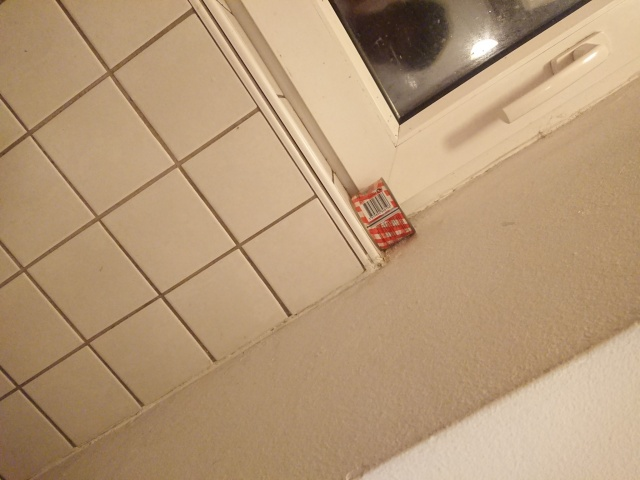Podravka Luncheon Meat 150g: (348, 174, 419, 253)
